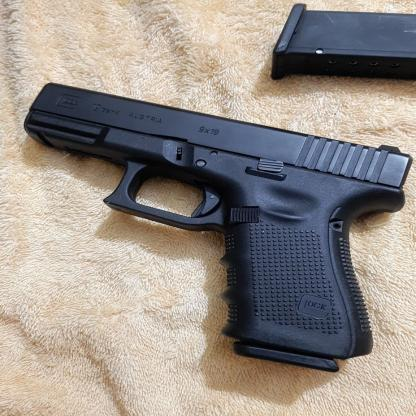handgun: (22, 70, 411, 378)
